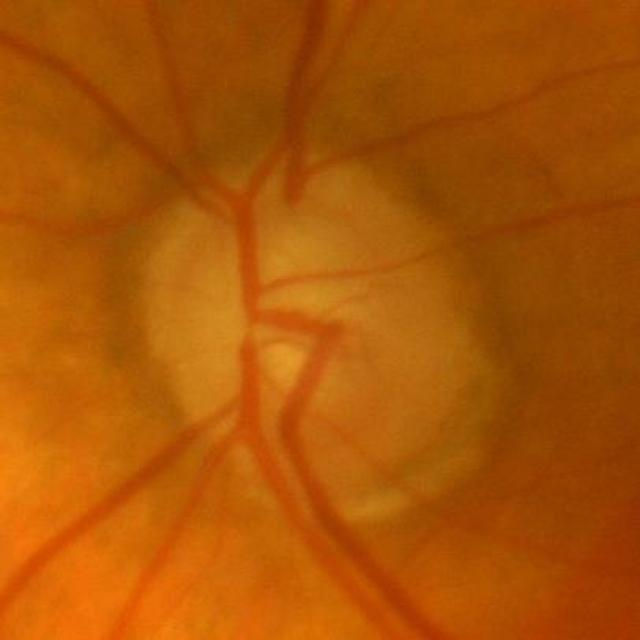OC: (244, 281, 373, 403)
OD: (146, 147, 502, 517)
